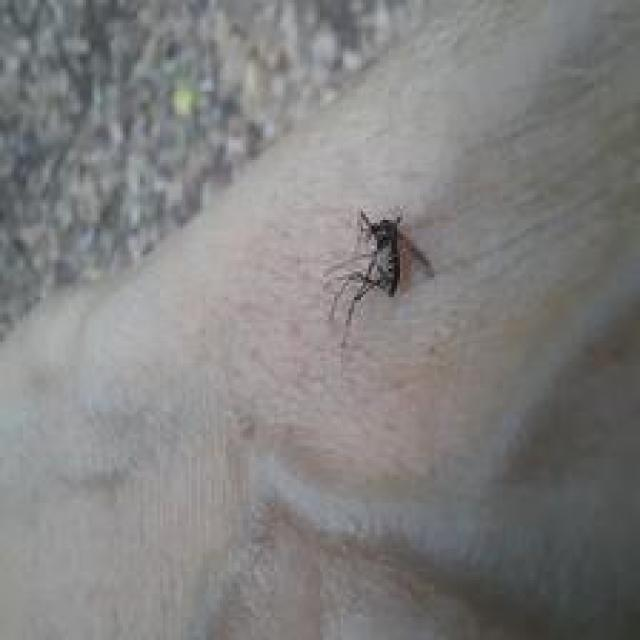Aedes albopictus: (321, 206, 436, 346)
